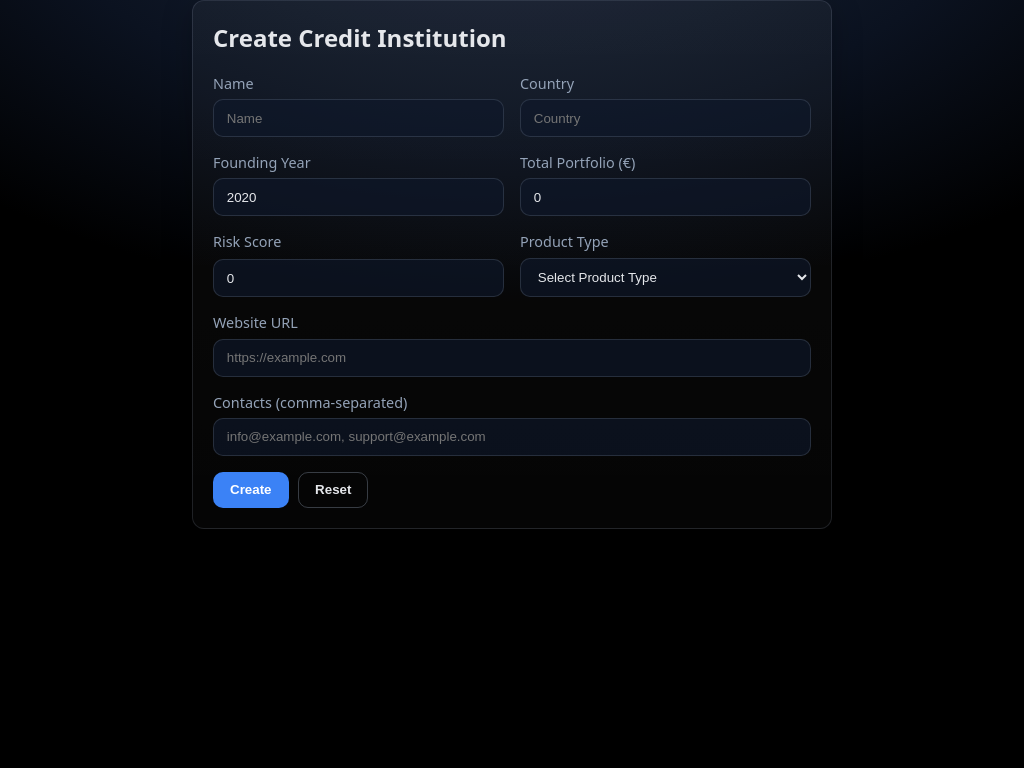
Test: InstitutionForm.vue › submits form and stores id to localStorage
The image size is (1024, 768).
Type "Bank A" into the field with placeholder "Name" at [358, 118], box [213,99,504,137]
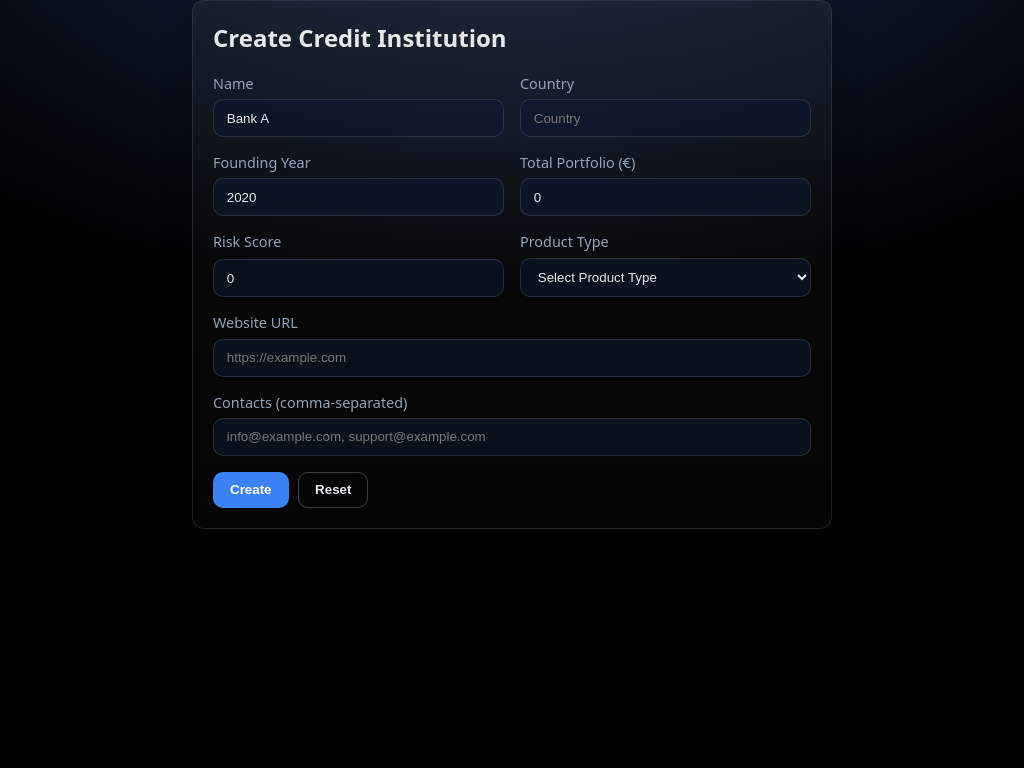
Type "SE" into the field with placeholder "Country" at [666, 118], box [520,99,811,137]
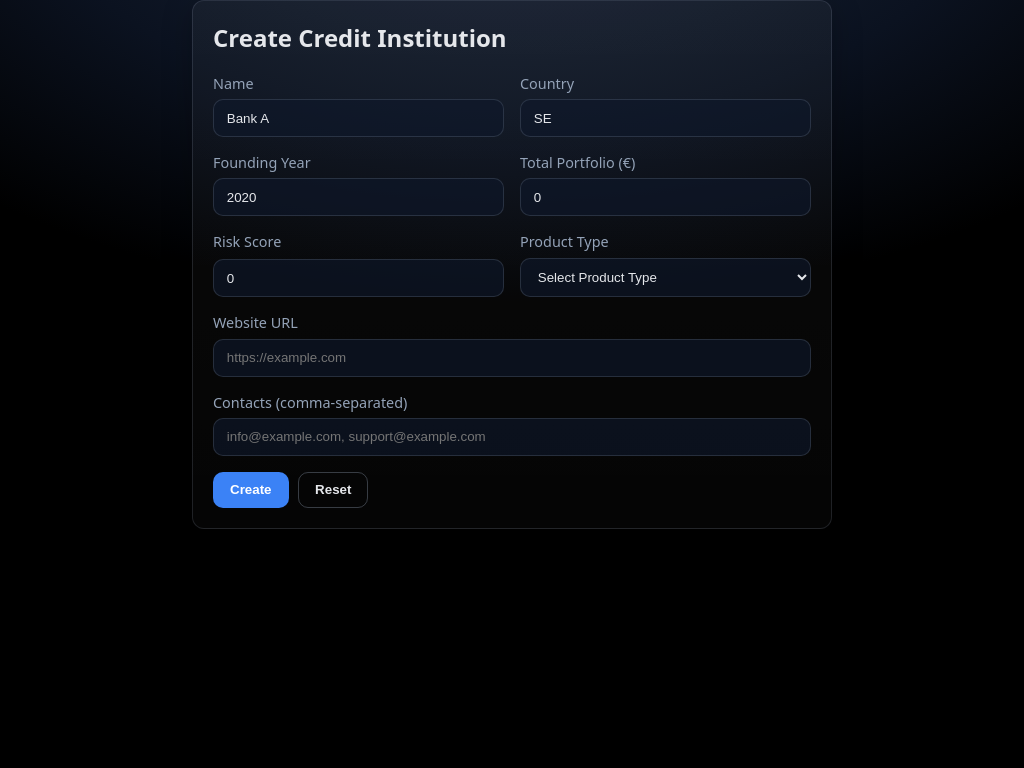
Submit the form, box [213,74,811,508]
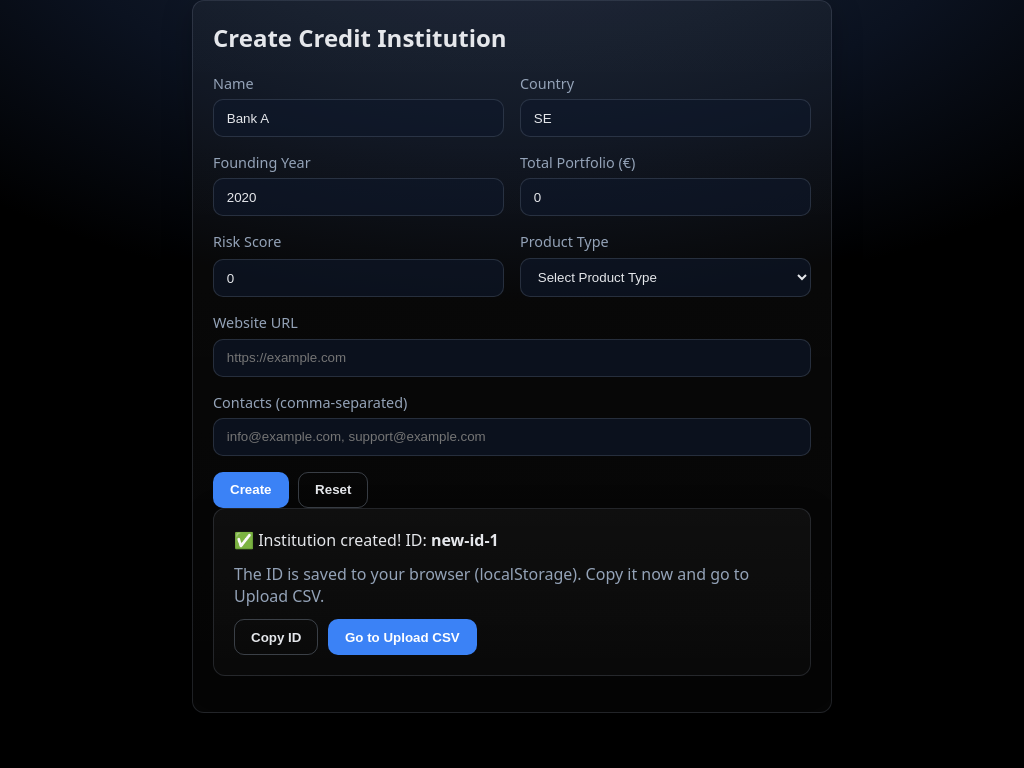
Expected: the text "new-id-1" is shown, [431,529,499,551]
